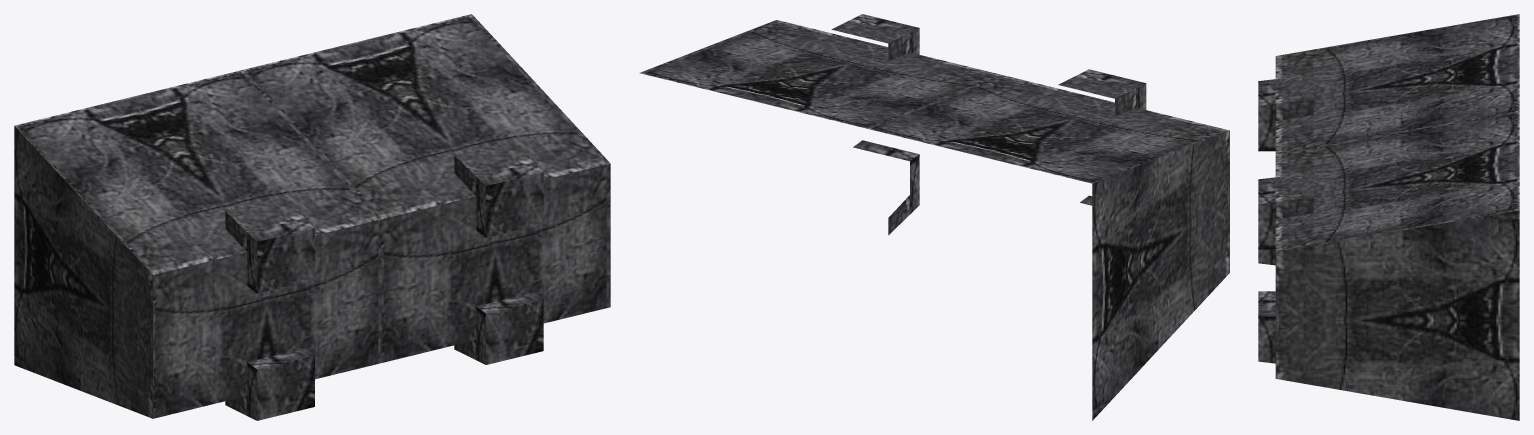
The picture shows the model from 3 angles, left to right: view 1: azimuth 30°, elevation 25°; view 2: azimuth 150°, elevation 25°; view 3: azimuth 270°, elevation 25°; orthographic projection. The views are drawn at different scales.
Visible parts, largest first — view 1: model_Object07; view 2: model_Object07; view 3: model_Object07.
Part boxes in pixels (x1,y1,x2,y2): model_Object07: [14, 14, 610, 420]; model_Object07: [639, 14, 1229, 420]; model_Object07: [1258, 14, 1519, 420].
Bounding box in the file's own units: 2 × 1 × 1.13.
1 material, 1 textured.
